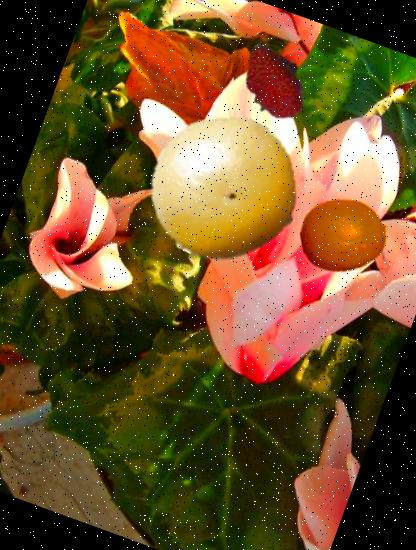Grapefruit: (130, 93, 320, 283)
Lemon: (288, 178, 400, 292)
Strawberry: (222, 30, 326, 134)
